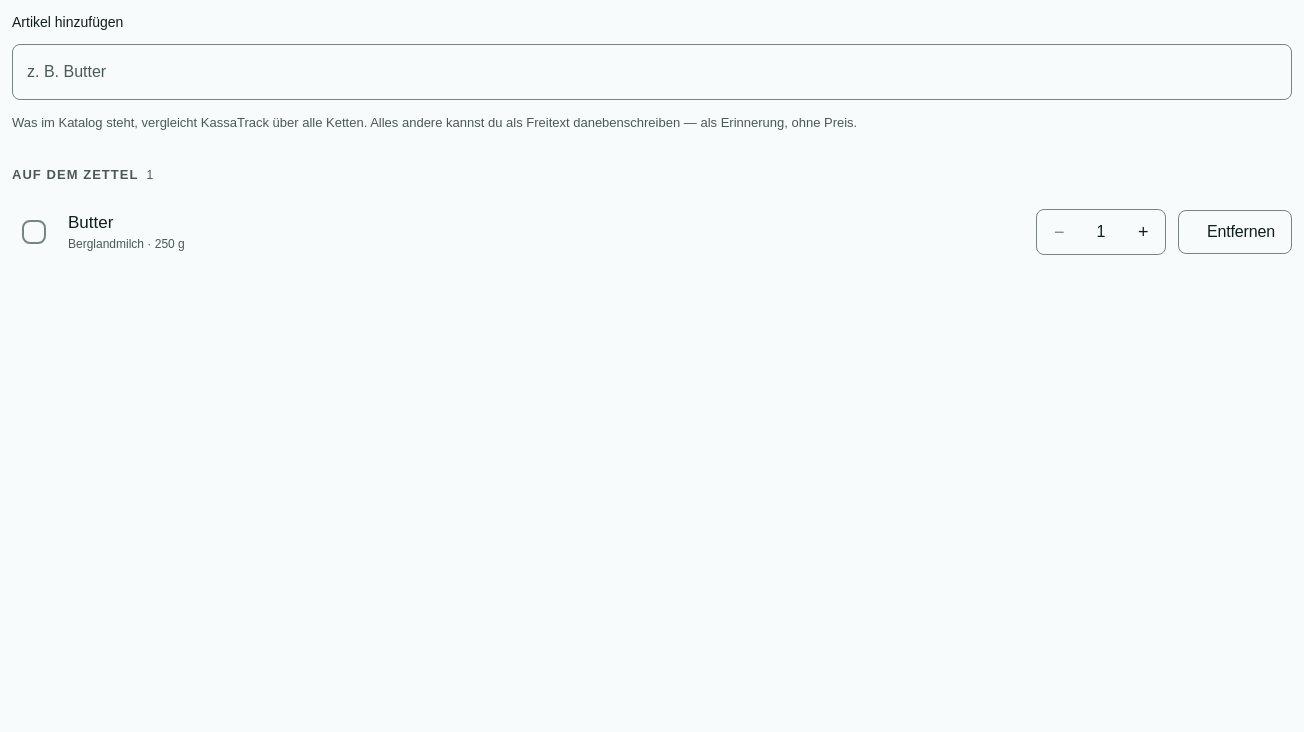
Test: ZettelDetail — abhaken › reicht die empfohlene Kette an das Formular durch
Click the button named "Abhaken" at point(34, 232), box [12,210,56,254]
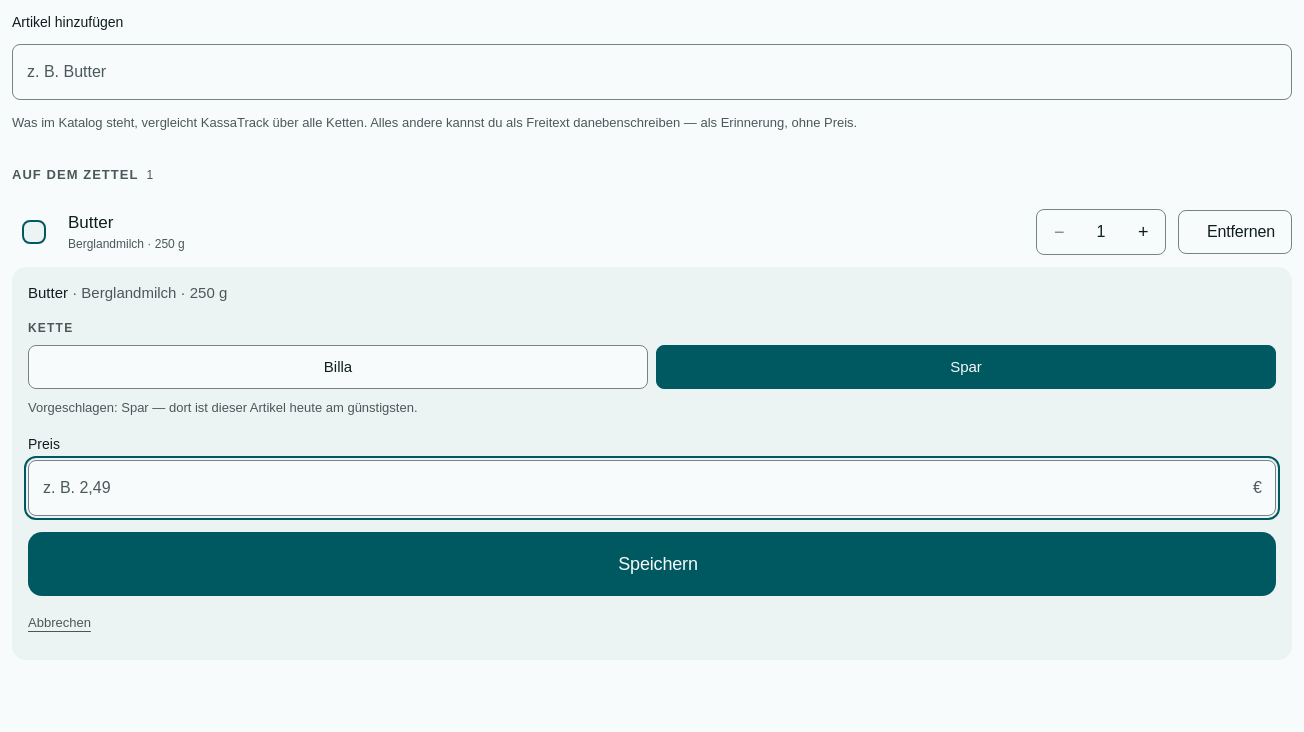
Expected: the radio button labelled "Spar" is checked, [656,345,1276,389]
